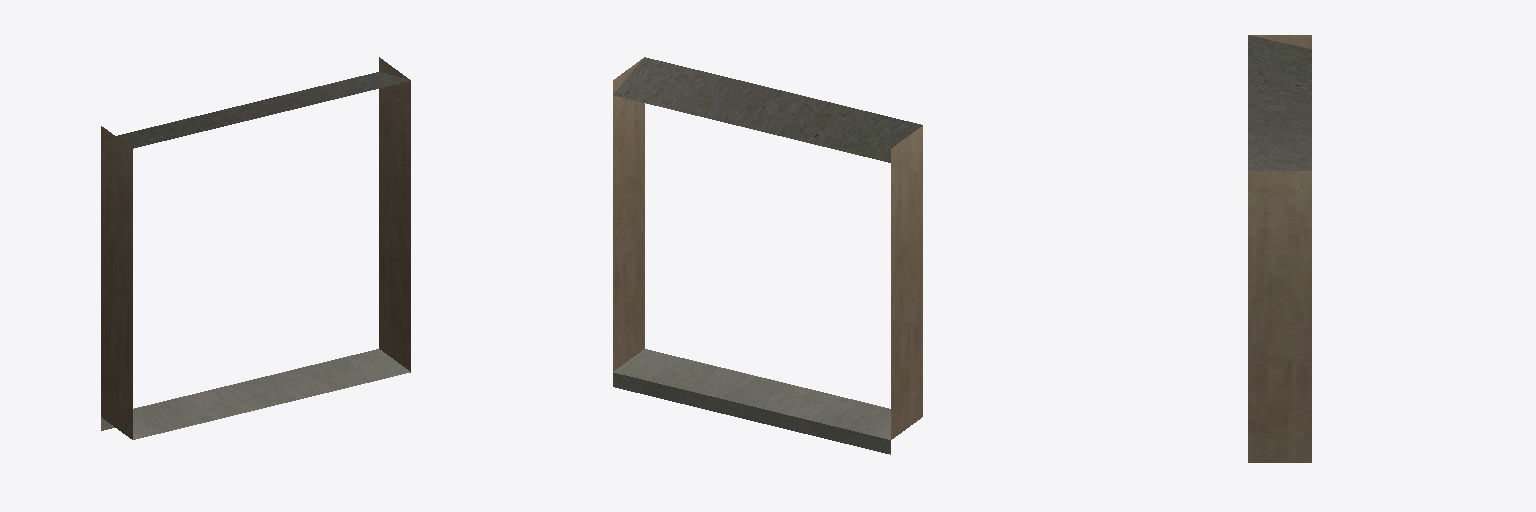
3 views of the same model, side by side, from view 1: azimuth 30°, elevation 25°; view 2: azimuth 150°, elevation 25°; view 3: azimuth 270°, elevation 25° (orthographic).
Parts seen in each view (by area): view 1: Cube.4; view 2: Cube.4; view 3: Cube.4.
Boxes of the visible parts, x1,y1,x2,y2 form: Cube.4: [101, 57, 410, 439]; Cube.4: [613, 57, 922, 454]; Cube.4: [1248, 35, 1311, 462].
Bounding box in the file's own units: 6 × 6.3 × 1.2.
1 materials, 1 textured.